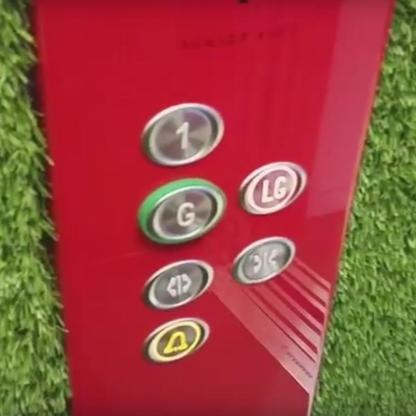1: (139, 101, 224, 167)
G: (136, 176, 228, 245)
LG: (238, 160, 306, 215)
alarm: (141, 317, 211, 362)
close: (230, 236, 296, 284)
open: (139, 257, 214, 310)
